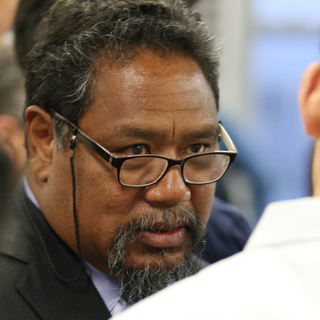eye: (112, 138, 158, 165), (174, 136, 217, 162)
